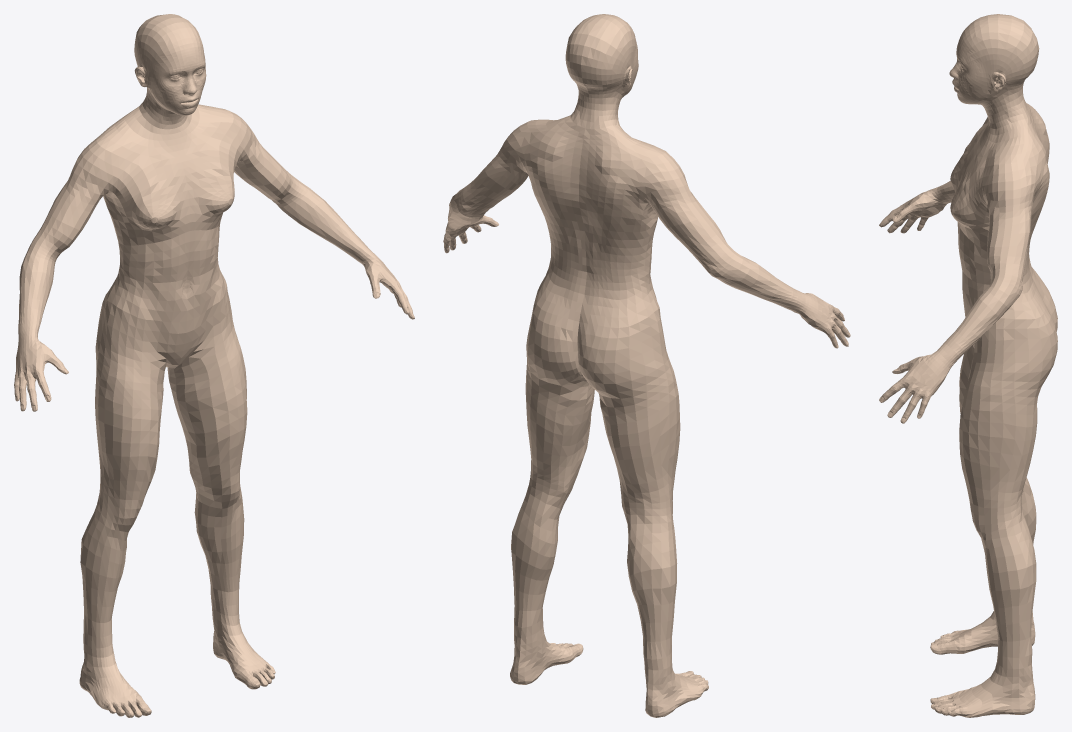
The model's file is female-young-average-high.glb.
The picture shows the model from 3 angles, left to right: view 1: azimuth 30°, elevation 25°; view 2: azimuth 150°, elevation 25°; view 3: azimuth 270°, elevation 25°; orthographic projection.
Parts seen in each view (by area): view 1: world; view 2: world; view 3: world.
Boxes of the visible parts, left/top/right/bottom form: world: left=14, top=14, right=414, bottom=717; world: left=443, top=14, right=850, bottom=717; world: left=879, top=14, right=1057, bottom=717.
Size of the model in its own units: 1.09 by 1.76 by 0.429.
